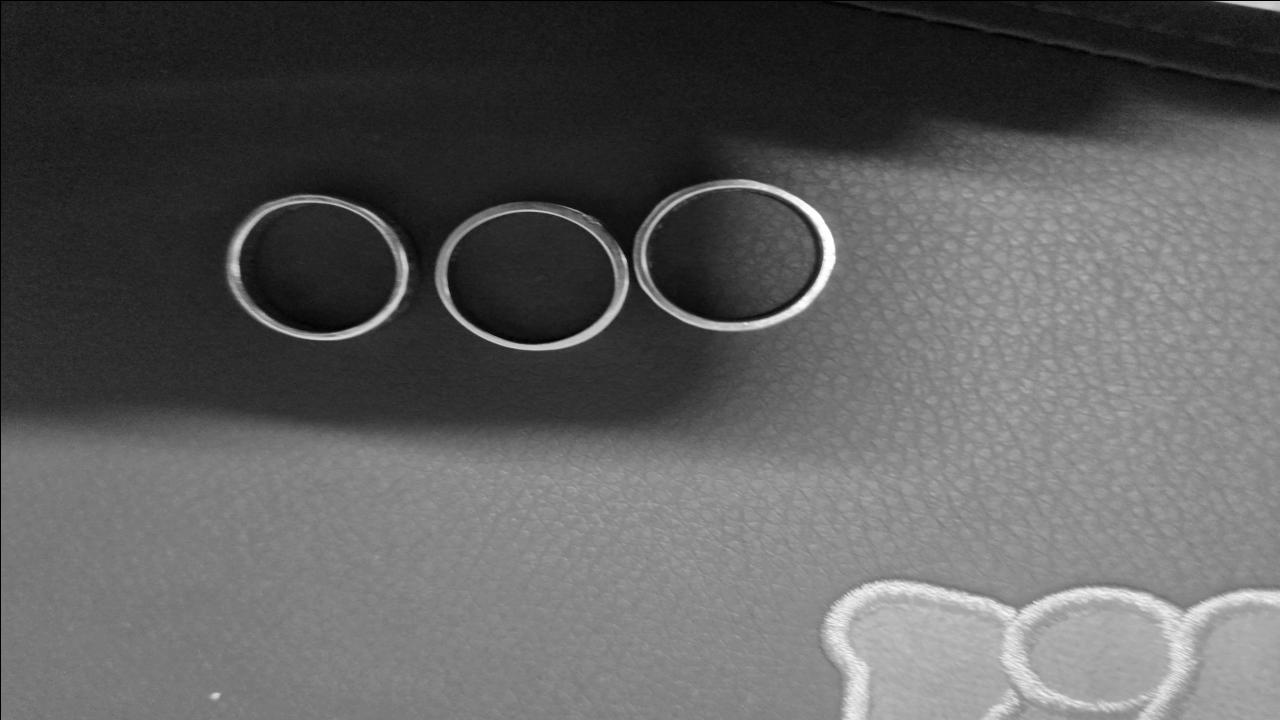ring: (632, 177, 839, 331), (428, 201, 633, 351), (218, 192, 418, 340)
